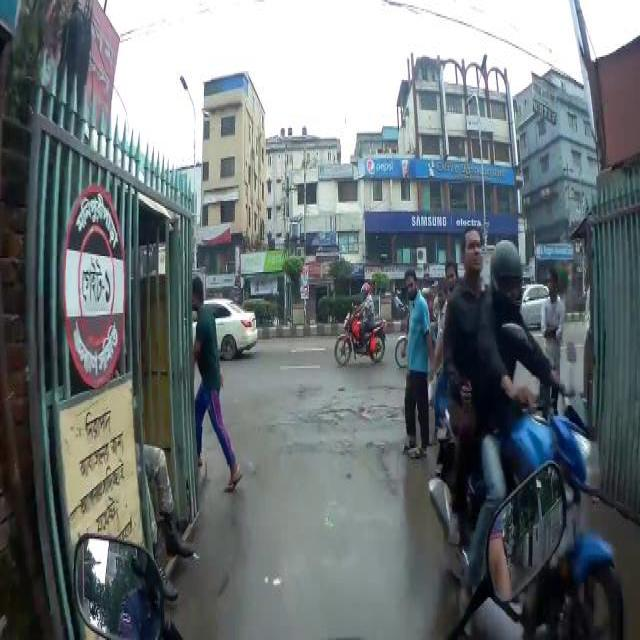car: (192, 292, 260, 362)
motorbike: (432, 326, 628, 638), (332, 281, 391, 366)
